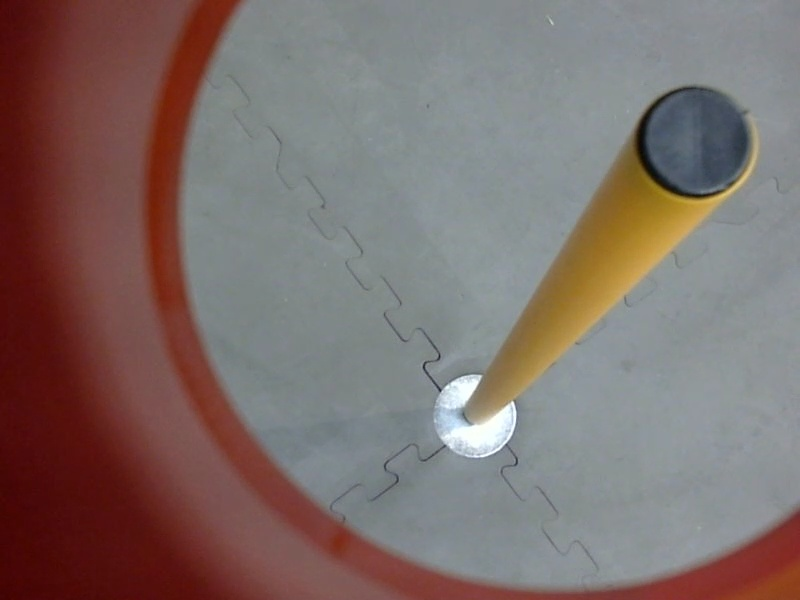tip: (627, 77, 765, 206)
